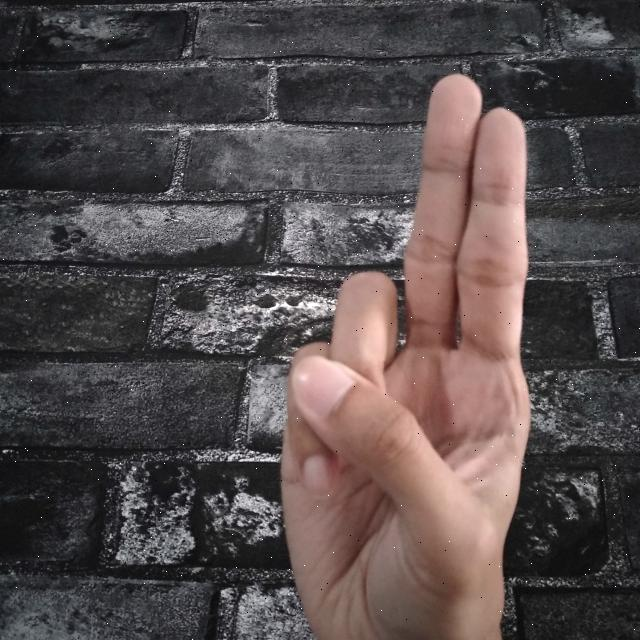U: (272, 68, 540, 640)
